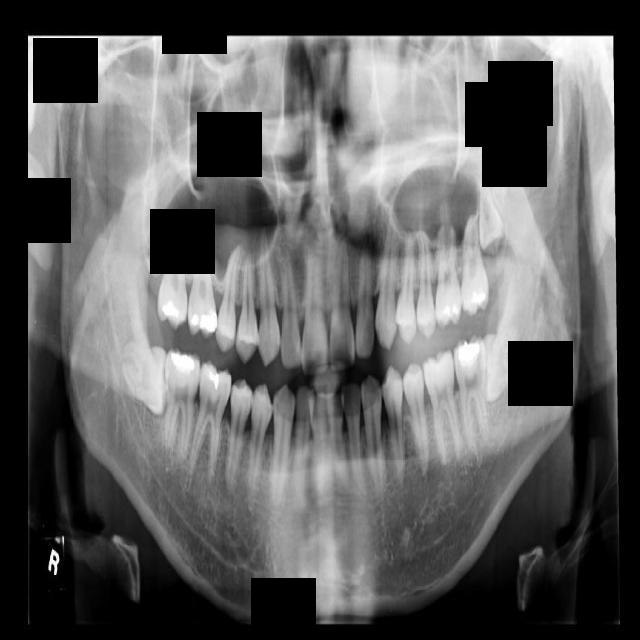52: (166, 344, 199, 378), (455, 339, 481, 369), (159, 299, 181, 323), (200, 310, 217, 333), (208, 371, 220, 389), (471, 291, 486, 305), (190, 313, 200, 327), (442, 305, 451, 317), (452, 305, 459, 315)
73: (616, 600, 629, 610)
BioHorizons Implant: (459, 212, 492, 321)
BioLife Implant: (479, 168, 505, 258)
Biomet 3i Implant: (477, 328, 527, 406)
Blue Sky Bio Implant: (451, 332, 494, 448)
Caries: (157, 226, 190, 332)
Implant: (164, 348, 201, 466)
Keystone Dental Implant: (120, 340, 171, 416)
